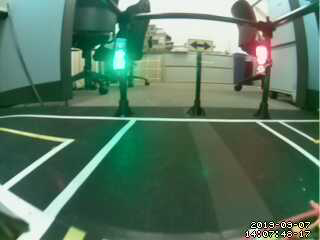Left_Right_sign: (190, 37, 213, 52)
Traffic_light_green: (115, 38, 125, 69)
Traffic_light_red: (257, 47, 269, 76)
